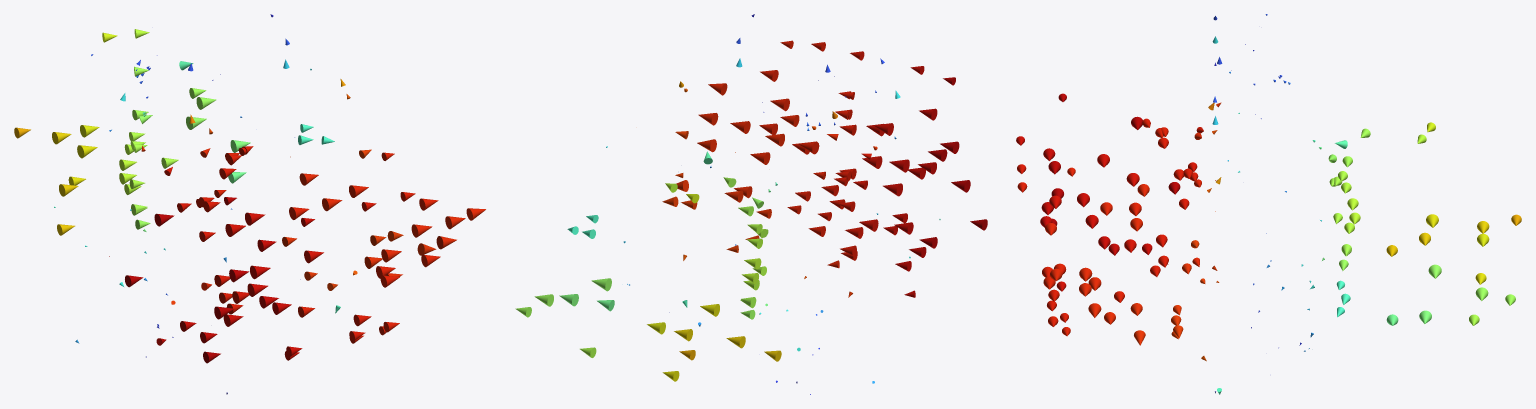
File: LineasCorrienteH2-O2_mh2-2.70_V-1.glb
3 views of the same model, side by side, from view 1: azimuth 30°, elevation 25°; view 2: azimuth 150°, elevation 25°; view 3: azimuth 270°, elevation 25° (orthographic). The views are drawn at different scales.
Size of the model in its own units: 0.000898 by 0.000945 by 0.00123.
Materials: 2 (2 with a texture image).
